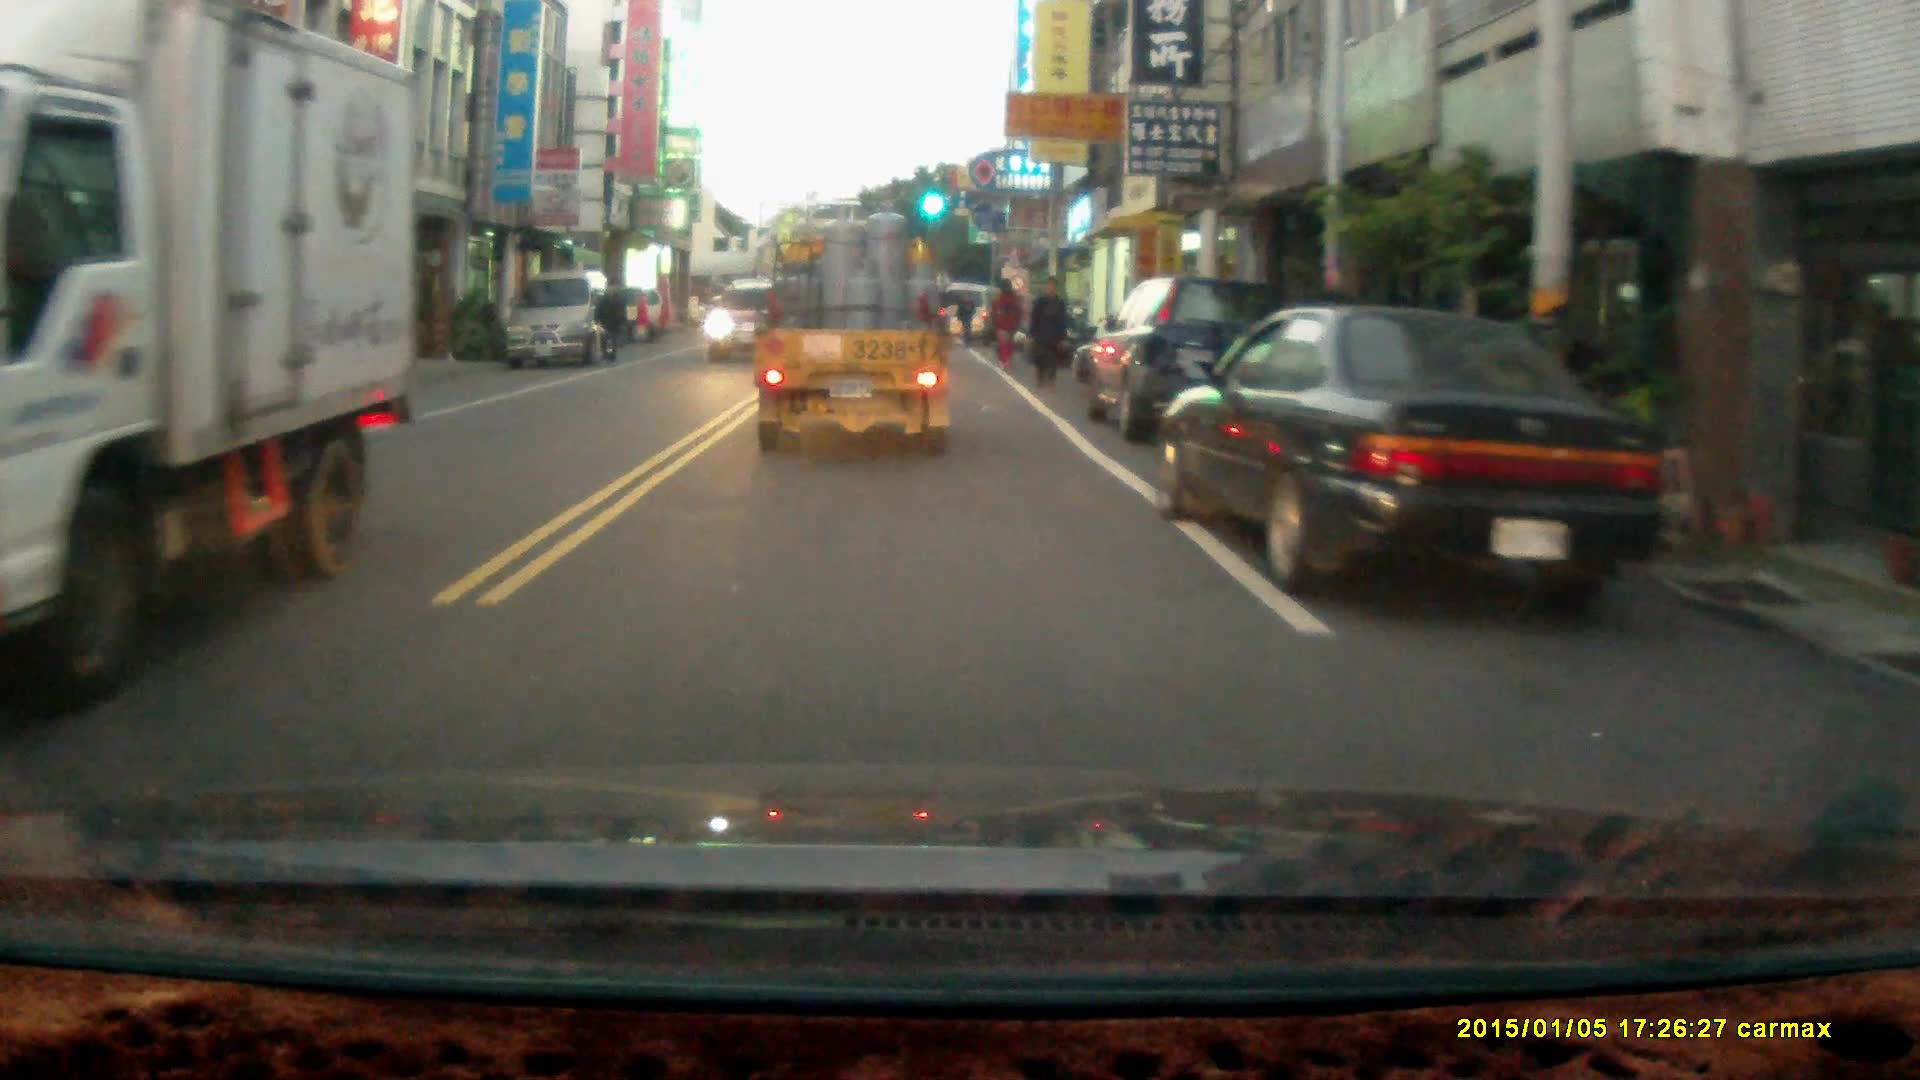pedestrian: (1022, 271, 1068, 393), (986, 278, 1022, 368), (594, 278, 627, 363), (954, 292, 975, 345)
vehicle: (1, 5, 417, 695), (1155, 306, 1680, 602), (747, 191, 959, 463), (1086, 276, 1303, 450), (505, 271, 619, 371), (699, 279, 790, 368)
